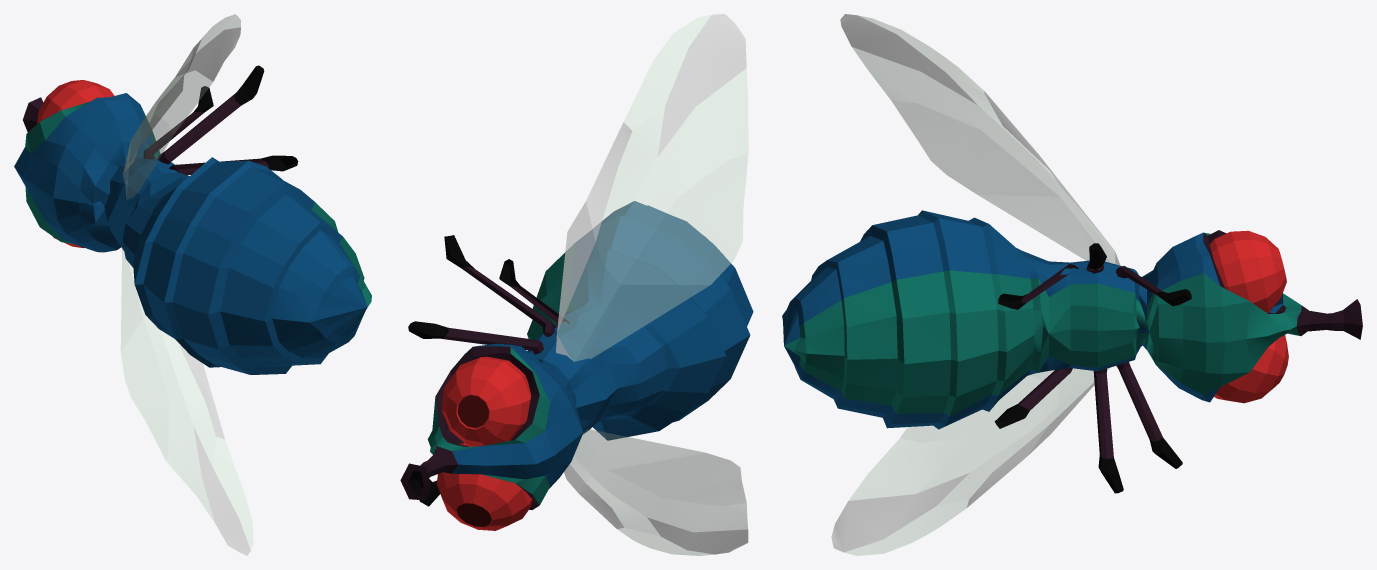
File: colorFly.dae
3 renders of one model, left to right at view 1: azimuth 30°, elevation 25°; view 2: azimuth 150°, elevation 25°; view 3: azimuth 270°, elevation 25°, orthographic. The views are drawn at different scales.
Parts seen in each view (by area): view 1: Sphere_001, BezierCurve_001_Mesh_001, BezierCurve_Mesh, Sphere_003, Sphere_009, Sphere_000, Sphere_004; view 2: Sphere_001, BezierCurve_Mesh, BezierCurve_001_Mesh_001, Sphere_009, Sphere_008, Sphere_000, Sphere_003, Sphere_004; view 3: Sphere_001, BezierCurve_Mesh, BezierCurve_001_Mesh_001, Sphere_009, Sphere_008, Sphere_006, Sphere_007, Sphere_005, Sphere_000, Sphere_004.
Boxes of the visible parts, bbox=[...] form: Sphere_001: bbox=[14, 93, 371, 374]; BezierCurve_001_Mesh_001: bbox=[121, 249, 253, 555]; BezierCurve_Mesh: bbox=[123, 14, 240, 199]; Sphere_003: bbox=[157, 65, 264, 164]; Sphere_009: bbox=[37, 80, 114, 123]; Sphere_000: bbox=[143, 86, 213, 159]; Sphere_004: bbox=[169, 155, 298, 175]; Sphere_001: bbox=[400, 201, 753, 509]; BezierCurve_Mesh: bbox=[556, 14, 748, 361]; BezierCurve_001_Mesh_001: bbox=[564, 429, 748, 555]; Sphere_009: bbox=[441, 356, 531, 446]; Sphere_008: bbox=[436, 443, 532, 530]; Sphere_000: bbox=[408, 321, 543, 354]; Sphere_003: bbox=[444, 235, 554, 336]; Sphere_004: bbox=[499, 259, 569, 326]; Sphere_001: bbox=[782, 210, 1362, 429]; BezierCurve_Mesh: bbox=[840, 14, 1120, 265]; BezierCurve_001_Mesh_001: bbox=[831, 368, 1109, 555]; Sphere_009: bbox=[1209, 230, 1286, 312]; Sphere_008: bbox=[1214, 335, 1288, 403]; Sphere_006: bbox=[1093, 368, 1123, 493]; Sphere_007: bbox=[1116, 362, 1182, 468]; Sphere_005: bbox=[994, 368, 1072, 428]; Sphere_000: bbox=[1116, 266, 1191, 306]; Sphere_004: bbox=[998, 264, 1078, 309].
Bounding box in the file's own units: 4.94 × 11.63 × 11.85.
